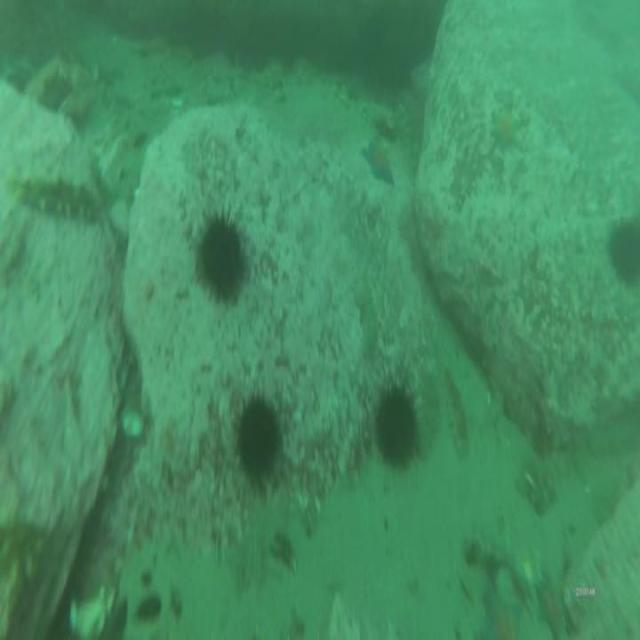echinus: (198, 215, 244, 294), (375, 392, 417, 466), (239, 400, 279, 476), (610, 223, 640, 284)
holothurian: (18, 175, 98, 223), (441, 365, 472, 455), (356, 260, 380, 356)
starfish: (481, 588, 521, 640), (535, 577, 565, 638), (362, 142, 393, 186), (489, 104, 518, 146)
